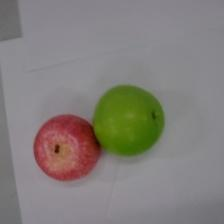green: (92, 83, 166, 157)
red: (33, 113, 101, 182)
